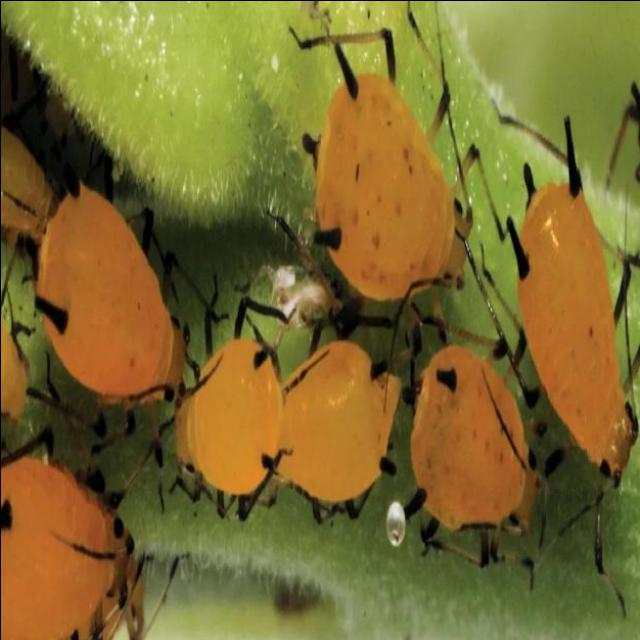Aphids: (275, 0, 540, 427), (497, 91, 640, 637), (114, 248, 297, 552), (20, 129, 220, 405), (392, 320, 569, 608), (0, 409, 200, 640), (269, 310, 408, 552)
